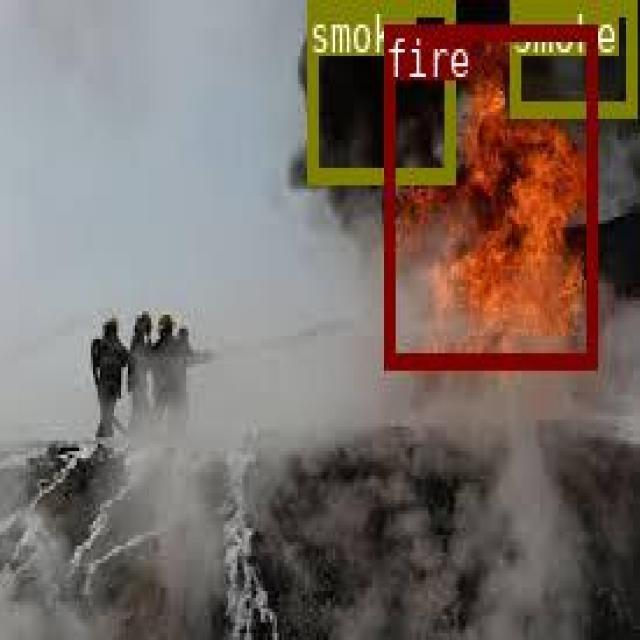fire: (382, 23, 596, 365)
smoke: (305, 0, 451, 182), (509, 0, 634, 112)
